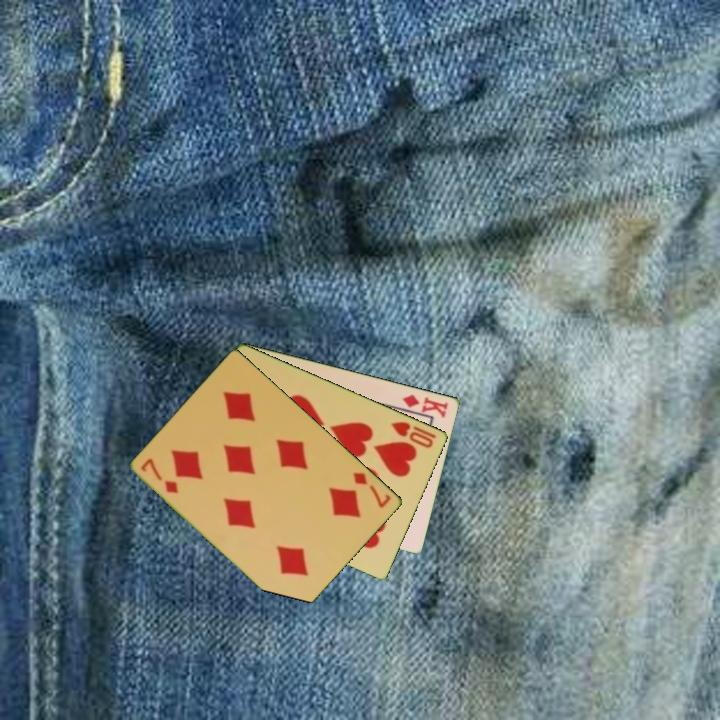10h: (387, 418, 440, 451)
7d: (350, 468, 395, 511), (138, 455, 182, 497)
Kd: (399, 390, 451, 420)
